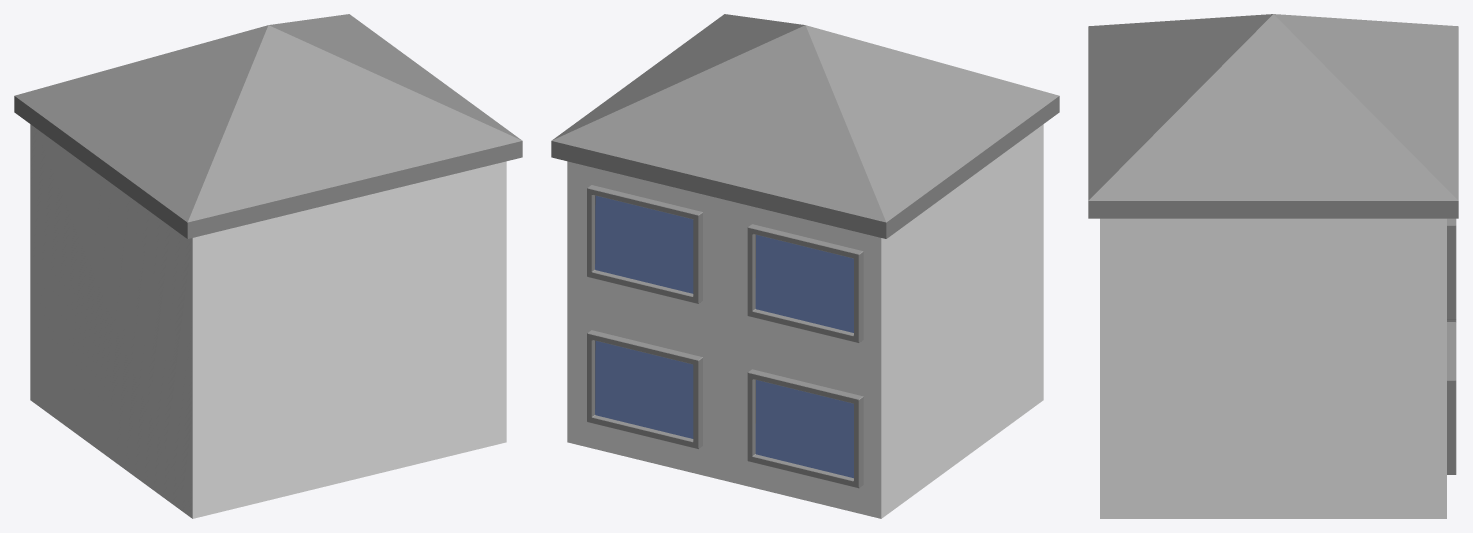
The model's file is left building.fbx.
The picture shows the model from 3 angles, left to right: view 1: azimuth 30°, elevation 25°; view 2: azimuth 150°, elevation 25°; view 3: azimuth 270°, elevation 25°; orthographic projection. The views are drawn at different scales.
Visible parts, largest first — view 1: Cube.309; view 2: Cube.309, Cube.310; view 3: Cube.309, Cube.310.
Part boxes in pixels (x1,y1,x2,y2): Cube.309: [14, 14, 522, 518]; Cube.309: [551, 14, 1059, 518]; Cube.310: [587, 185, 863, 488]; Cube.309: [1088, 14, 1458, 518]; Cube.310: [1447, 218, 1456, 474].
Bounding box in the file's own units: 35.36 × 39.94 × 31.67.
